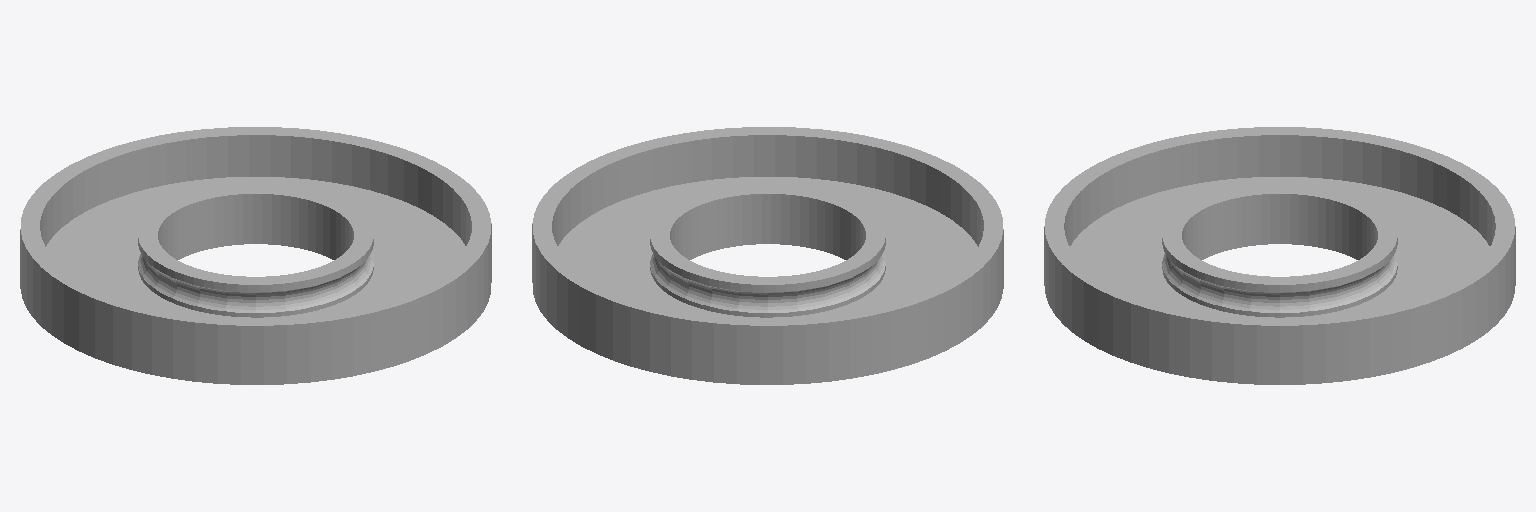
robot.urdf — root:
<?xml version='1.0' encoding='utf-8'?>
<robot name="root">
  <link name="link_001">
    <visual>
      <origin xyz="0 0 0" rpy="0 0 0" />
      <geometry>
        <mesh filename="5ae0045f5642cc1533d173ea84f6829e8e3f9e12ce5694bd87ea6dfda354ebe7_scale_000.stl" scale="1.0000E+00 1.0000E+00 1.0000E+00" />
      </geometry>
      <material name="">
        <color rgba="7.50E-01 7.50E-01 7.50E-01 1" />
      </material>
    </visual>
    <collision>
      <origin xyz="0 0 0" rpy="0 0 0" />
      <geometry>
        <mesh filename="5ae0045f5642cc1533d173ea84f6829e8e3f9e12ce5694bd87ea6dfda354ebe7_scale_000.stl" scale="1.0000E+00 1.0000E+00 1.0000E+00" />
      </geometry>
    </collision>
  </link>
</robot>

--- What the picture shows (computed from the rendered views, not written in the file) ---
3 views of the same robot in one strip: view 1: azimuth 30°, elevation 25°; view 2: azimuth 150°, elevation 25°; view 3: azimuth 270°, elevation 25° (orthographic).
Model root with 1 links and 0 joints (none), rooted at link_001, posed every joint at zero.
Visible links, largest first — view 1: link_001; view 2: link_001; view 3: link_001.
Link boxes in pixels (<box>): link_001: <box>20,127,491,384</box>; link_001: <box>532,127,1003,384</box>; link_001: <box>1044,127,1515,384</box>.
Bounding box of the posed robot: 0.1202 × 0.1202 × 0.0167 m (x, y, z).
1 mesh visuals loaded from 1 distinct referenced files (1 binary STL).
